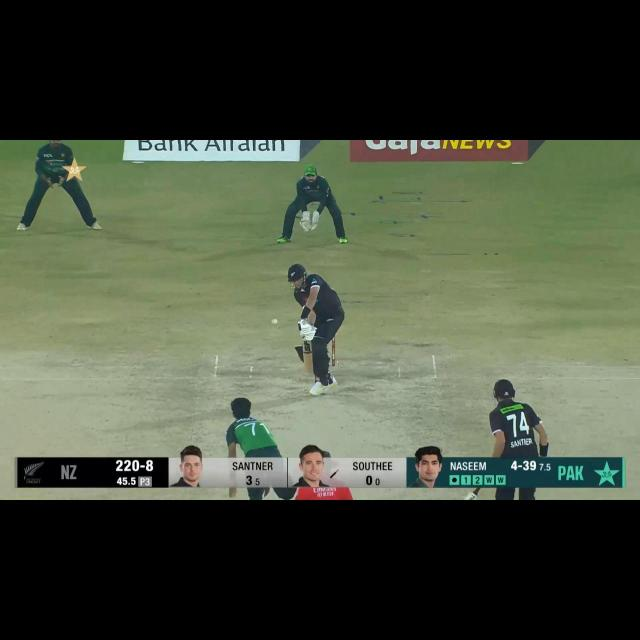bat: (302, 340, 316, 376), (465, 492, 478, 500)
toe: (303, 368, 314, 375)
